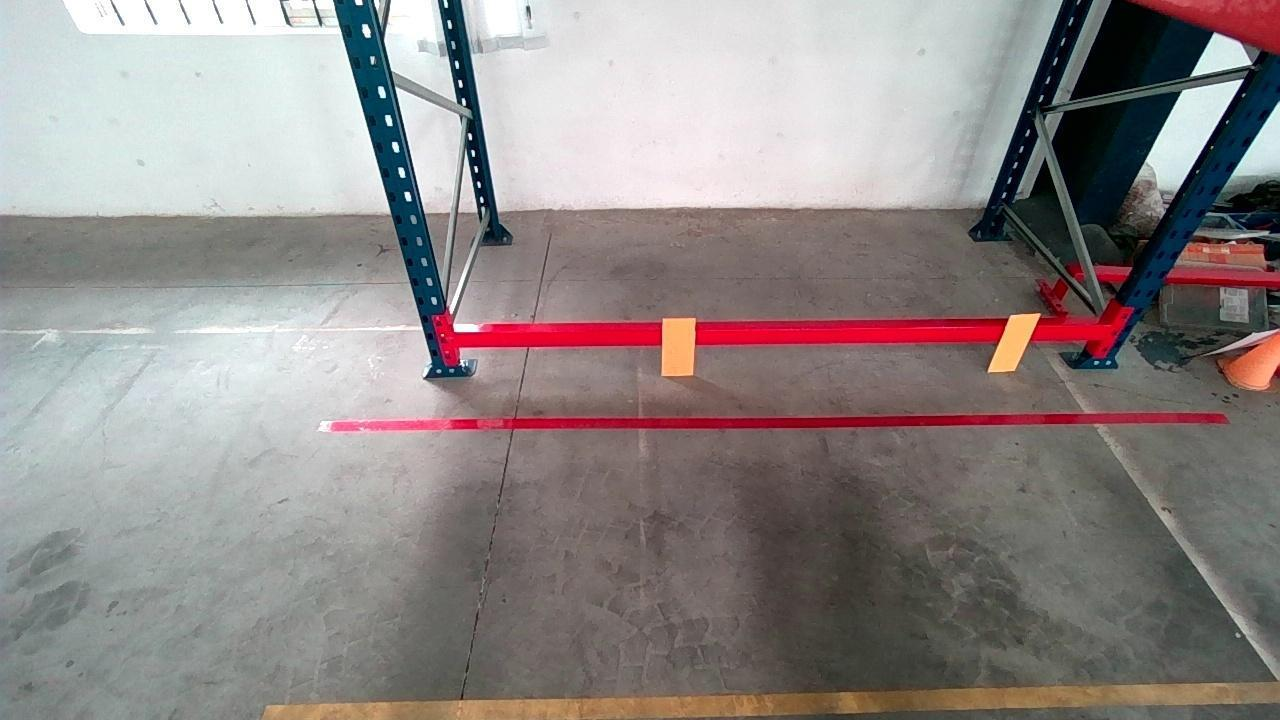h_rack: (455, 324, 1114, 350)
orange_strip: (989, 312, 1044, 370), (662, 316, 695, 374)
red_line: (322, 412, 1230, 433)
yellow_line: (284, 676, 1271, 720)
